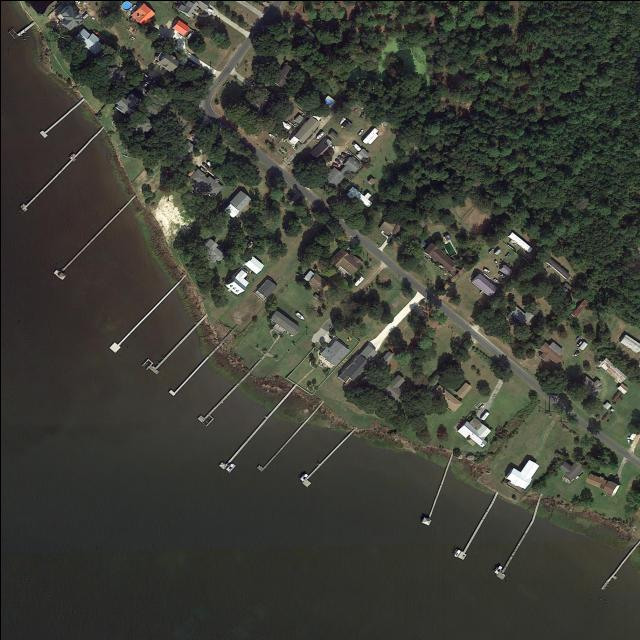ship: (293, 310, 305, 321), (314, 130, 325, 140), (203, 5, 215, 14), (298, 472, 308, 482), (493, 564, 502, 574), (224, 462, 233, 472), (476, 403, 484, 411), (453, 548, 460, 557), (266, 132, 275, 139)
small-vehicle: (496, 271, 505, 278), (575, 339, 582, 347), (91, 28, 99, 35), (140, 71, 148, 78), (200, 161, 208, 168), (481, 267, 490, 273), (572, 349, 579, 356), (492, 277, 499, 284), (141, 80, 148, 87), (333, 157, 340, 164), (356, 128, 363, 135), (336, 154, 344, 160), (328, 143, 335, 149), (358, 111, 364, 118), (188, 129, 194, 135), (626, 436, 631, 443), (165, 169, 172, 172)
